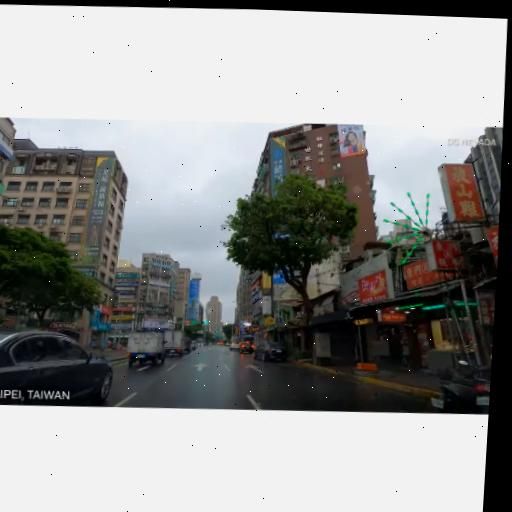Car: (0, 326, 115, 410), (125, 329, 167, 366), (253, 339, 288, 363), (162, 329, 185, 357), (238, 341, 255, 353), (179, 338, 192, 353), (229, 341, 242, 350), (189, 341, 198, 351), (196, 341, 205, 346), (224, 342, 231, 347), (218, 342, 223, 347), (209, 342, 212, 346)
